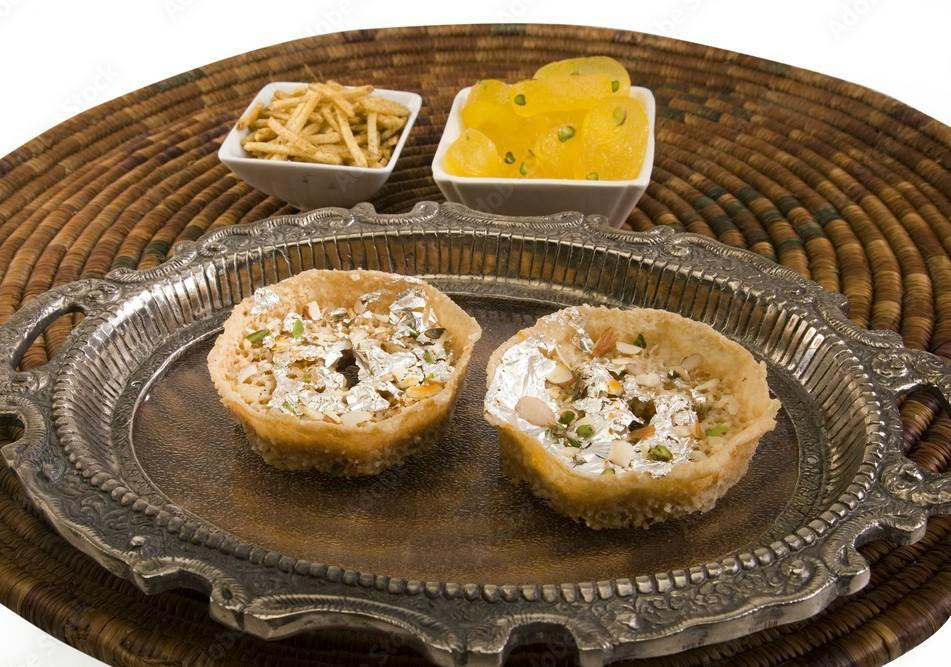Ghevar: (491, 303, 779, 530), (204, 265, 484, 480)
